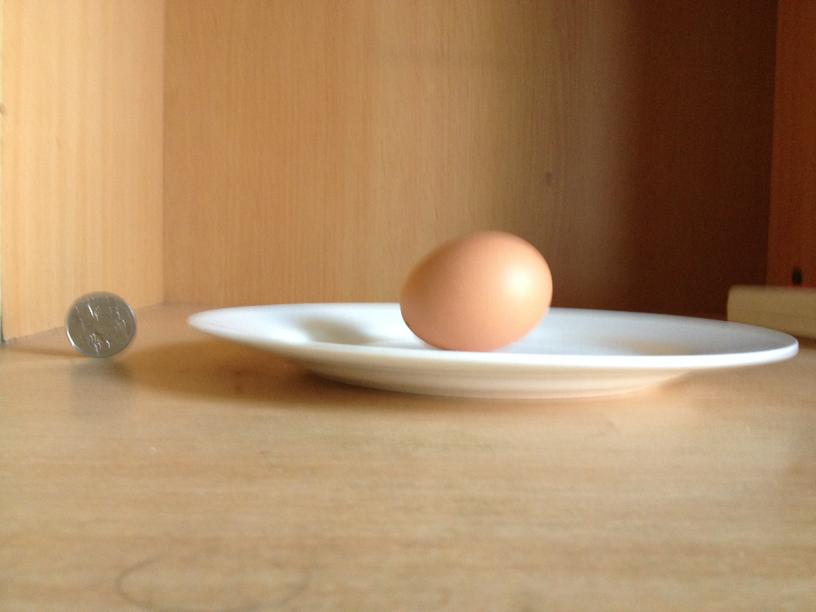coin: (65, 289, 137, 360)
egg: (391, 226, 552, 350)
